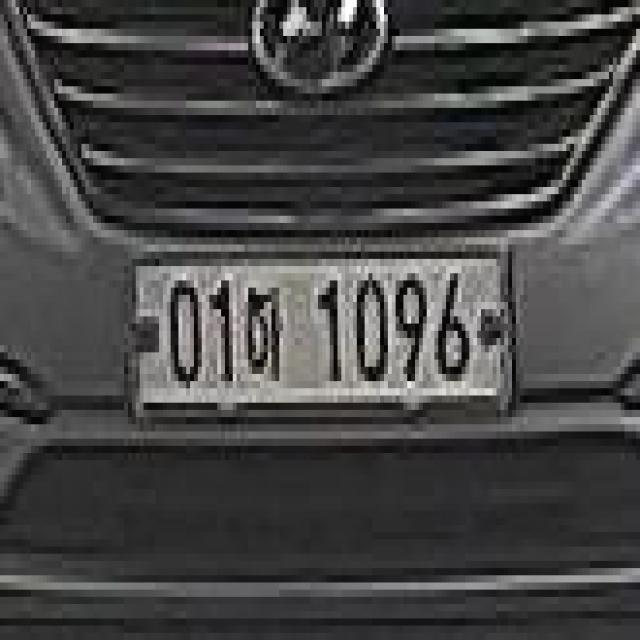illegal_plate: (123, 239, 522, 426)
